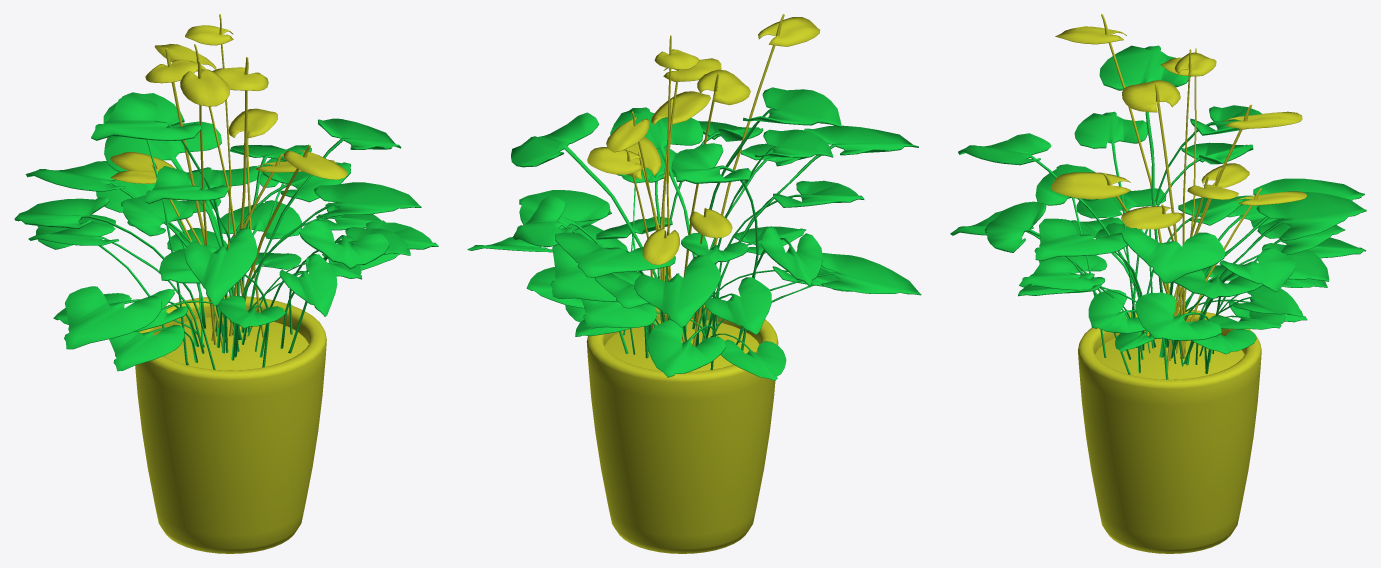
File: Plant_1.fbx
3 renders of one model, left to right at view 1: azimuth 30°, elevation 25°; view 2: azimuth 150°, elevation 25°; view 3: azimuth 270°, elevation 25°, orthographic. The views are drawn at different scales.
Visible parts, largest first — view 1: Plant_1; view 2: Plant_1; view 3: Plant_1.
Part boxes in pixels (left/top/right/bottom): Plant_1: left=14, top=14, right=438, bottom=553; Plant_1: left=467, top=14, right=921, bottom=553; Plant_1: left=950, top=14, right=1366, bottom=553.
Bounding box in the file's own units: 44.1 × 57.94 × 45.17.
